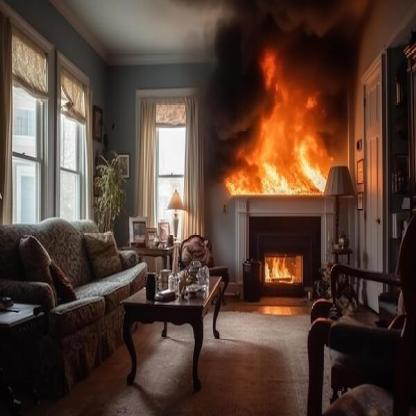fire: (227, 61, 338, 202), (263, 256, 300, 285)
smoke: (195, 0, 377, 196)
